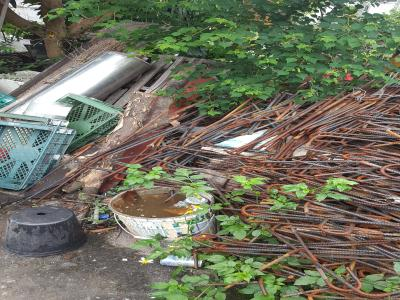bowl: (2, 203, 85, 258)
bucket: (108, 184, 217, 242)
